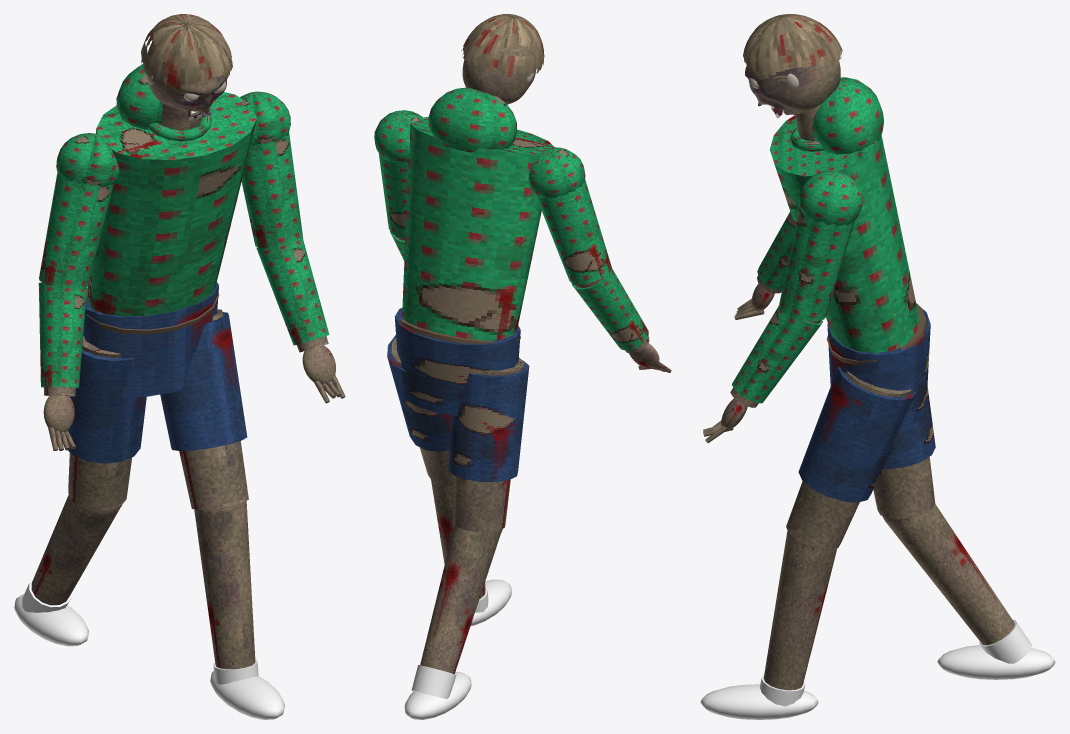
File: Zombie_148.glb
The picture shows the model from 3 angles, left to right: view 1: azimuth 30°, elevation 25°; view 2: azimuth 150°, elevation 25°; view 3: azimuth 270°, elevation 25°; orthographic projection. The views are drawn at different scales.
Parts seen in each view (by area): view 1: Zombie_148, object 44, object 4, object 12, object 18, object 13, object 5; view 2: Zombie_148, object 44, object 4, object 18, object 5, object 43; view 3: Zombie_148, object 44, object 12, object 18, object 4.
Part boxes in pixels (x1,y1,x2,y2): Zombie_148: [14, 63, 303, 719]; object 44: [141, 14, 232, 89]; object 4: [38, 282, 86, 388]; object 12: [256, 239, 329, 345]; object 18: [147, 41, 226, 113]; object 13: [302, 345, 335, 384]; object 5: [43, 395, 74, 432]; Zombie_148: [374, 87, 611, 719]; object 44: [461, 14, 544, 74]; object 4: [571, 268, 648, 350]; object 18: [462, 45, 536, 104]; object 5: [629, 343, 659, 368]; object 43: [462, 42, 539, 76]; Zombie_148: [700, 77, 1055, 719]; object 44: [743, 14, 842, 78]; object 12: [732, 306, 822, 403]; object 18: [745, 60, 840, 115]; object 4: [757, 211, 795, 290].
Bounding box in the file's own units: 0.7749 × 1.82 × 0.8668.
16 materials, 6 textured.
